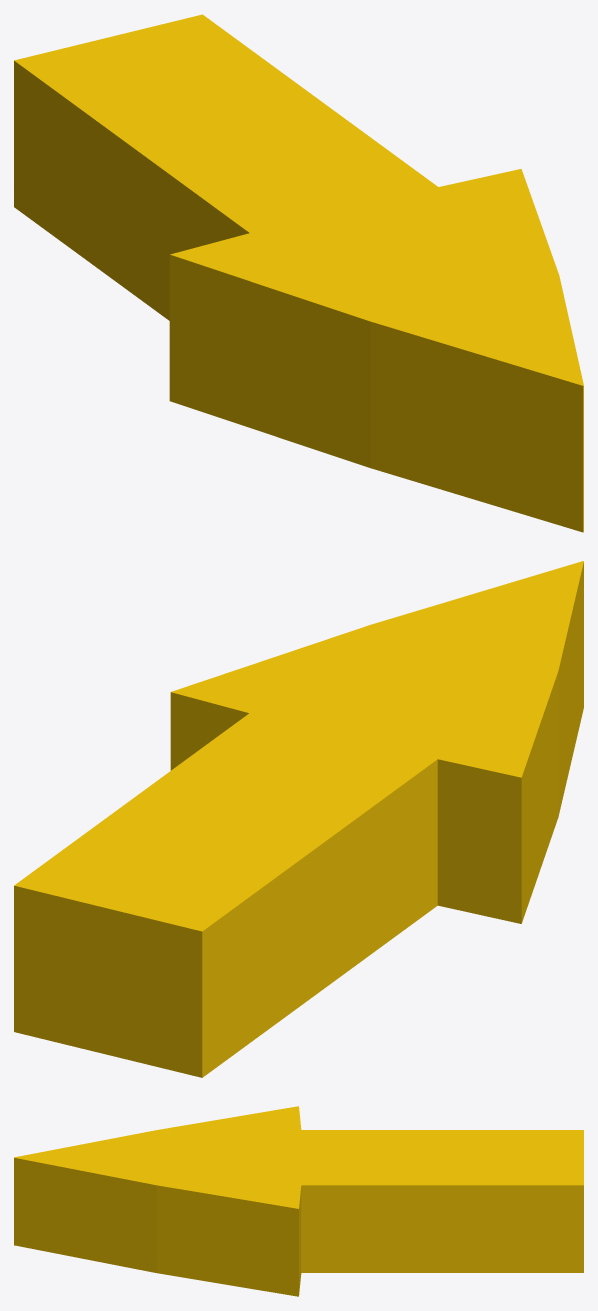
Rendered from Arrow.obj.
The picture shows the model from 3 angles, top to bottom: view 1: azimuth 30°, elevation 25°; view 2: azimuth 150°, elevation 25°; view 3: azimuth 270°, elevation 25°; orthographic projection. The views are drawn at different scales.
Visible parts, largest first — view 1: Cube.001; view 2: Cube.001; view 3: Cube.001.
Part boxes in pixels (bbox=[...]): Cube.001: bbox=[14, 14, 583, 532]; Cube.001: bbox=[14, 561, 583, 1077]; Cube.001: bbox=[14, 1106, 583, 1296].
Bounding box in the file's own units: 0.8537 × 0.3402 × 2.
Materials: 1 (1 with a texture image).
